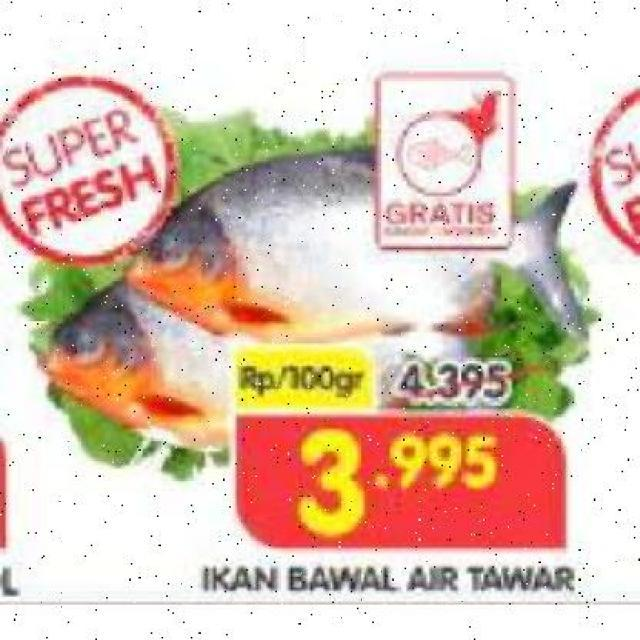ikan-pacu: (140, 146, 528, 326), (37, 280, 274, 440)
